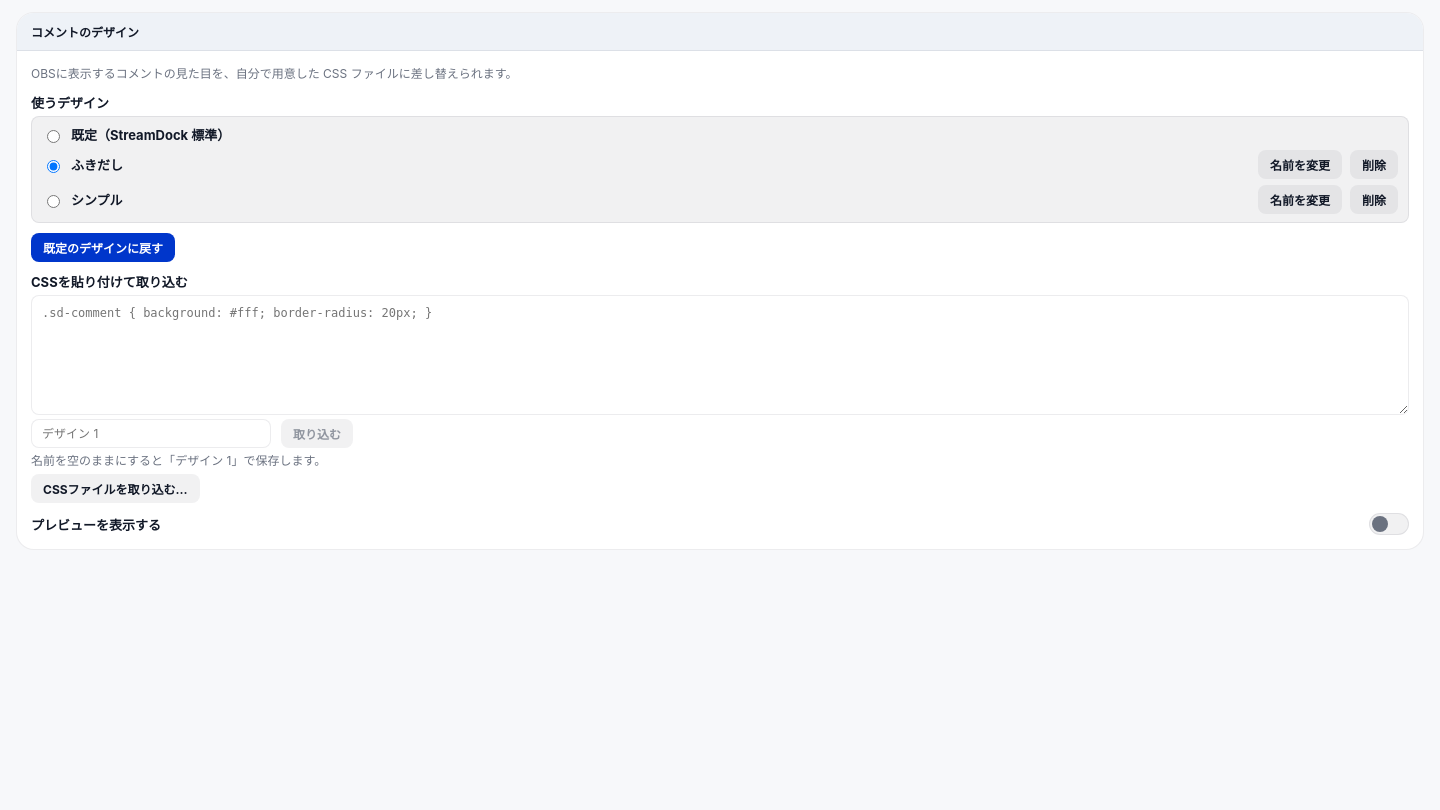
⚠ 壊れたテーマからの脱出路 › 「既定のデザインに戻す」が常にあり、押すと既定へ戻る
Expected: the radio button labelled "ふきだし" is shown, x1=47 y1=160 x2=60 y2=172
What coordinates should you click on to do the following:
click the button "既定のデザインに戻す"
I would click on:
 (103, 248)
Its box is x1=31 y1=233 x2=175 y2=262.
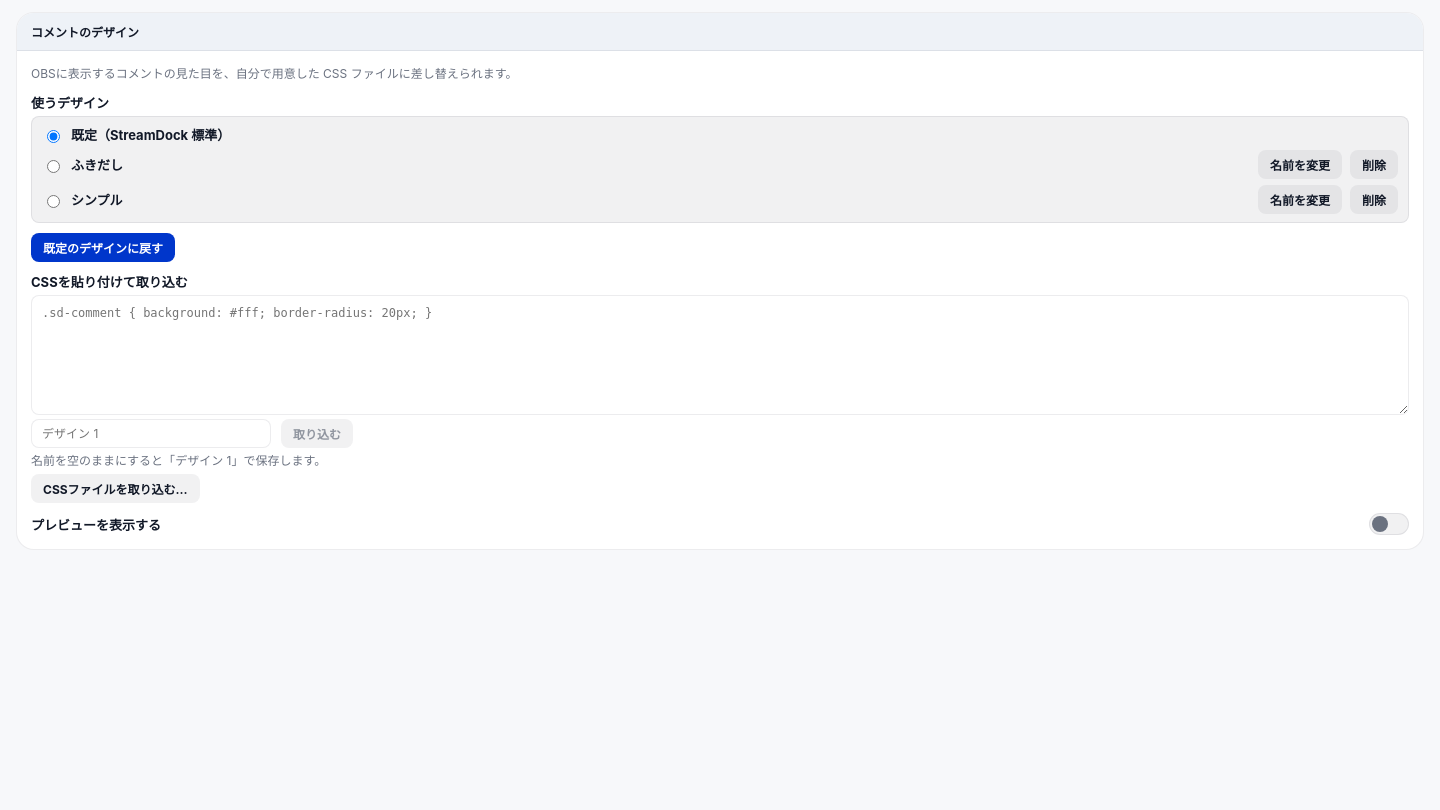
Now the radio button labelled "既定（StreamDock 標準）" is checked, box x1=47 y1=130 x2=60 y2=142
